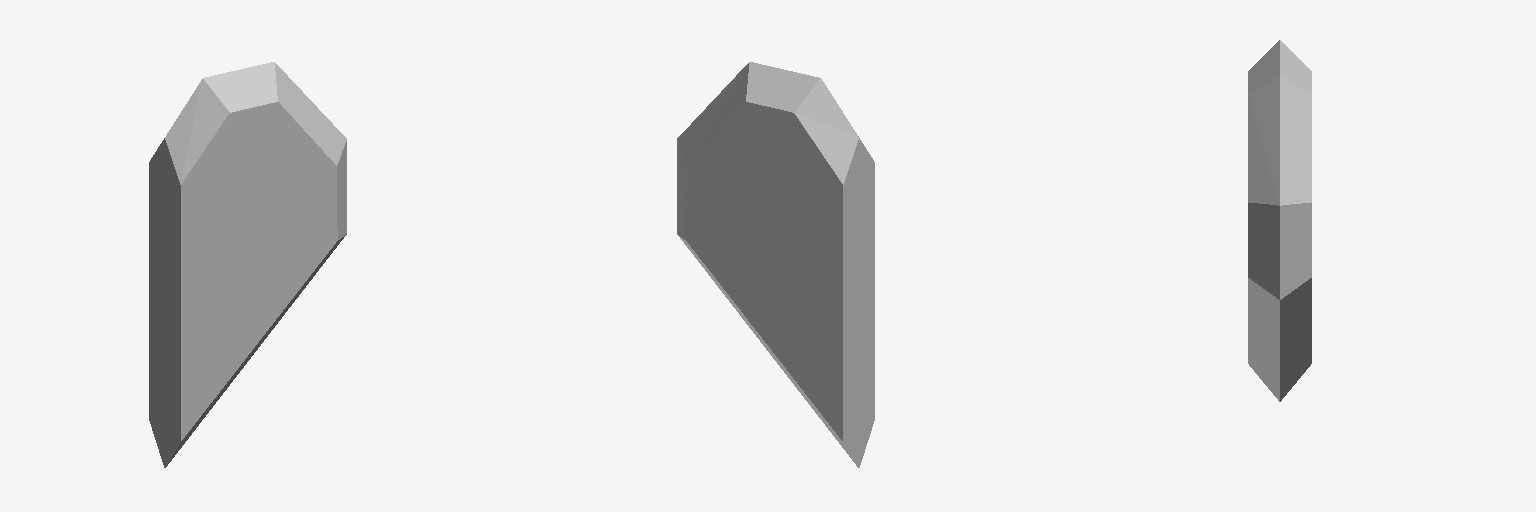
The model's file is UI_HalfHeart.obj.
3 renders of one model, left to right at view 1: azimuth 30°, elevation 25°; view 2: azimuth 150°, elevation 25°; view 3: azimuth 270°, elevation 25°, orthographic.
Visible parts, largest first — view 1: UI_FullHeart_Cube; view 2: UI_FullHeart_Cube; view 3: UI_FullHeart_Cube.
Boxes of the visible parts, x1=… form: UI_FullHeart_Cube: x1=149, y1=62, x2=346, y2=467; UI_FullHeart_Cube: x1=677, y1=62, x2=874, y2=467; UI_FullHeart_Cube: x1=1248, y1=40, x2=1311, y2=401.
Bounding box in the file's own units: 0.4 × 0.8 × 0.12.